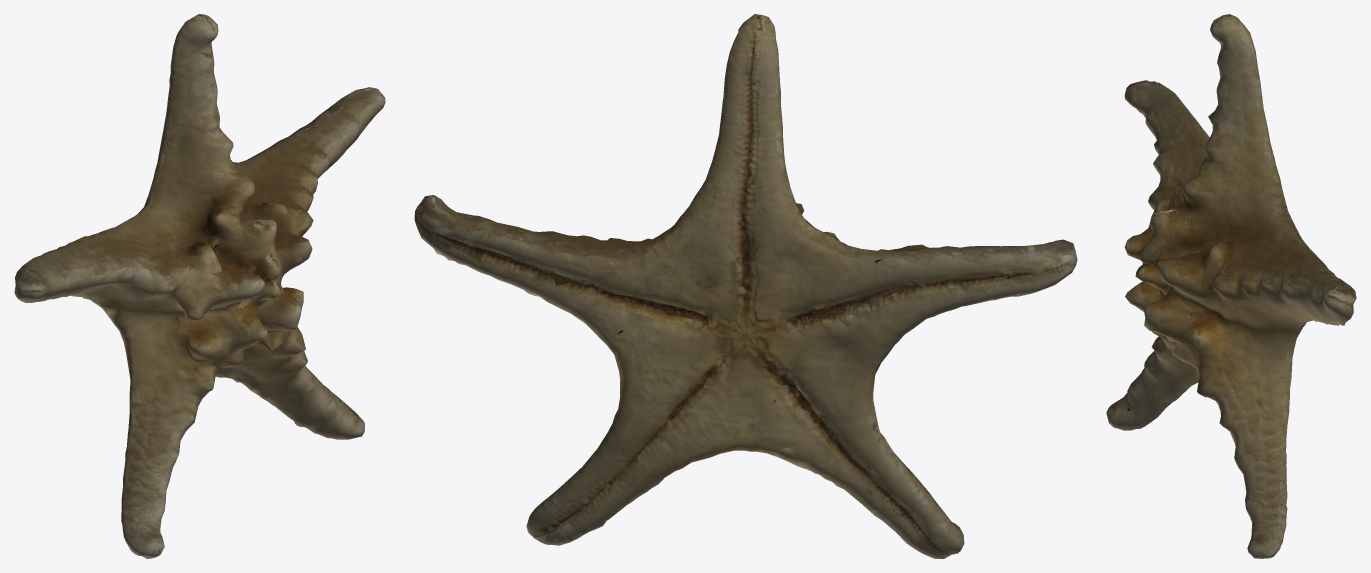
The model's file is Protoreaster Nodosus.fbx.
The picture shows the model from 3 angles, left to right: view 1: azimuth 30°, elevation 25°; view 2: azimuth 150°, elevation 25°; view 3: azimuth 270°, elevation 25°; orthographic projection. The views are drawn at different scales.
Parts seen in each view (by area): view 1: ZBrush_defualt_group; view 2: ZBrush_defualt_group; view 3: ZBrush_defualt_group.
Part boxes in pixels (x1,y1,x2,y2): ZBrush_defualt_group: [14, 14, 385, 558]; ZBrush_defualt_group: [414, 14, 1077, 558]; ZBrush_defualt_group: [1106, 14, 1356, 558].
Bounding box in the file's own units: 2.22 × 2.17 × 1.06.
Materials: 1 (1 with a texture image).
